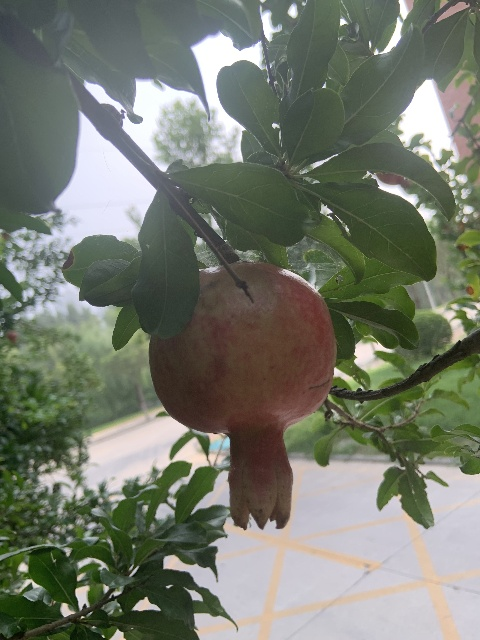ripe: (149, 262, 336, 530)
